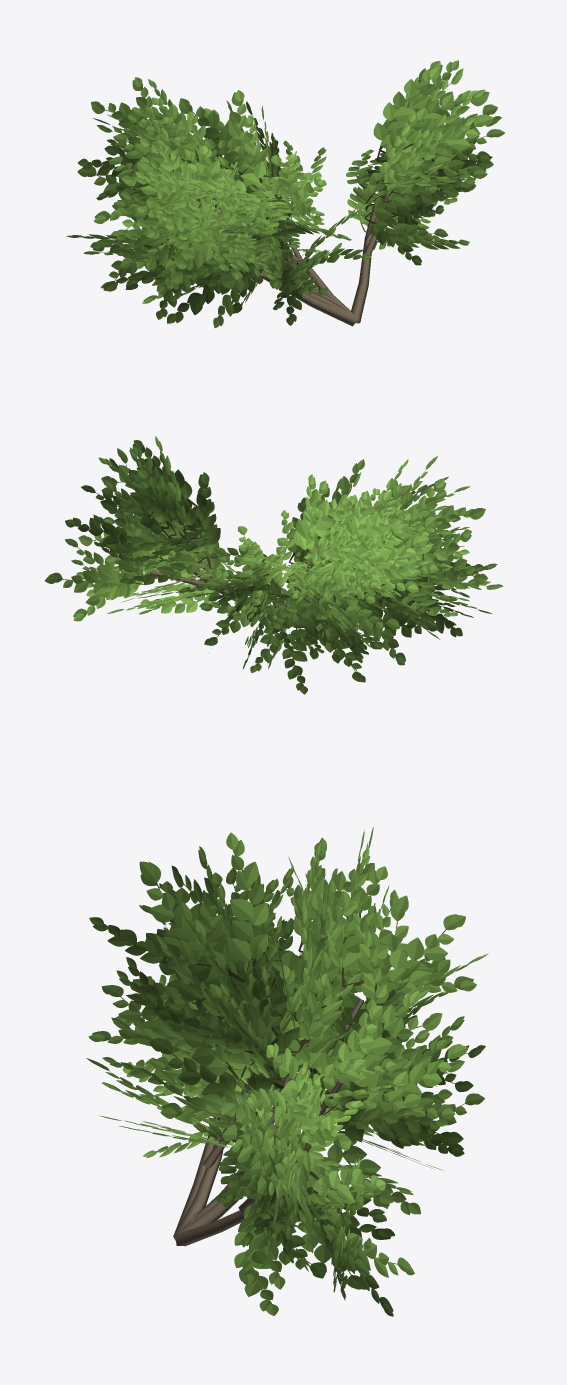
Rendered from bush_1.glb.
3 views of the same model, one above another, from view 1: azimuth 30°, elevation 25°; view 2: azimuth 150°, elevation 25°; view 3: azimuth 270°, elevation 25° (orthographic). The views are drawn at different scales.
Visible parts, largest first — view 1: bush_1; view 2: bush_1; view 3: bush_1.
Part boxes in pixels (bbox=[...]): bush_1: bbox=[66, 60, 504, 327]; bush_1: bbox=[44, 436, 503, 694]; bush_1: bbox=[86, 827, 488, 1316].
Bounding box in the file's own units: 3.33 × 1.73 × 2.26.
Materials: 2 (1 with a texture image).
